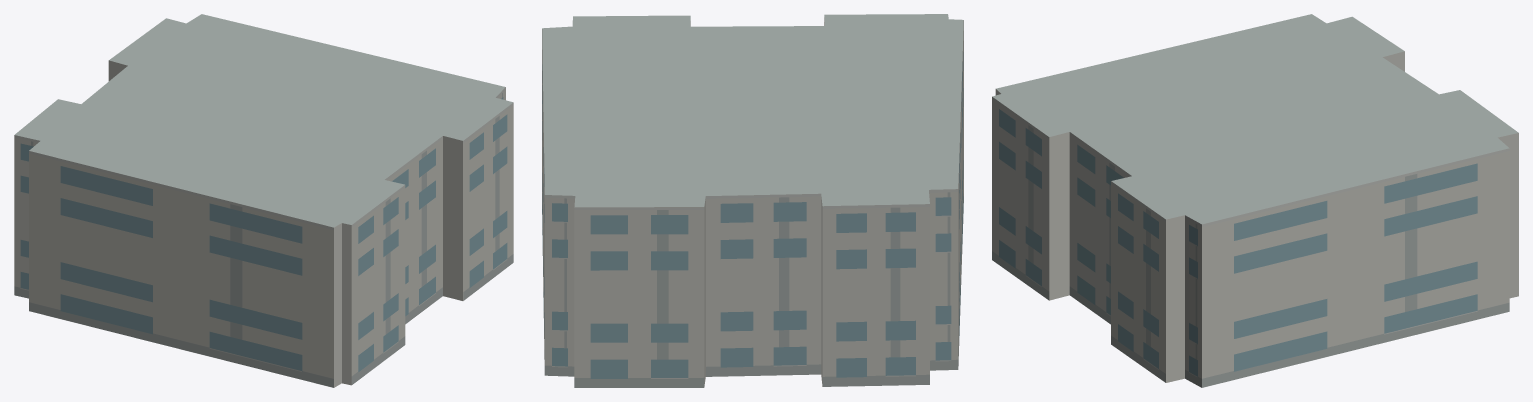
Rendered from survey-upis-32750747.glb.
The picture shows the model from 3 angles, left to right: view 1: azimuth 30°, elevation 25°; view 2: azimuth 150°, elevation 25°; view 3: azimuth 270°, elevation 25°; orthographic projection. The views are drawn at different scales.
Visible parts, largest first — view 1: survey-upis-32750747.tmp; view 2: survey-upis-32750747.tmp; view 3: survey-upis-32750747.tmp.
Part boxes in pixels (x1,y1,x2,y2): survey-upis-32750747.tmp: [14, 14, 513, 387]; survey-upis-32750747.tmp: [542, 14, 963, 387]; survey-upis-32750747.tmp: [992, 14, 1518, 387].
Size of the model in its own units: 42.11 by 15.25 by 44.55.
